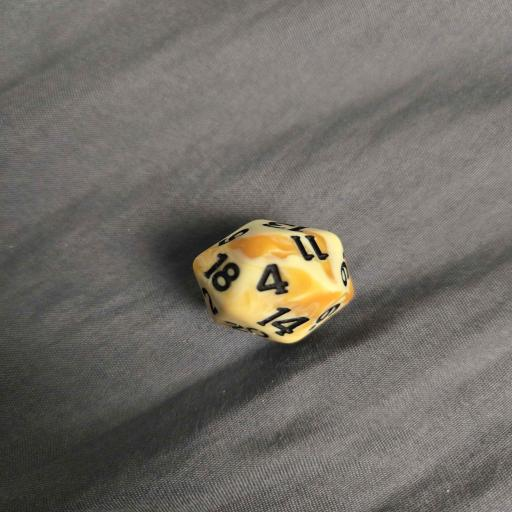twenty sided dice: (192, 219, 354, 344)
